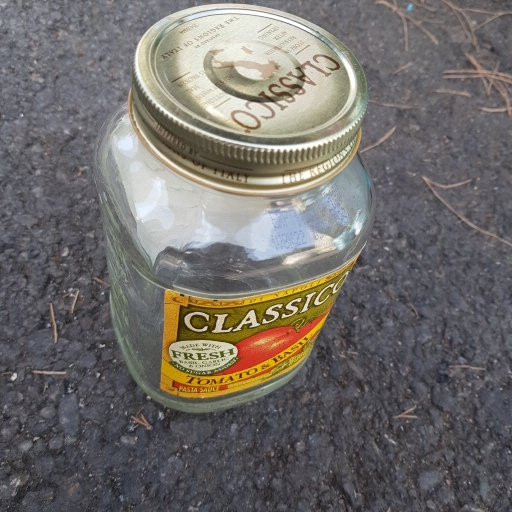Glass_5: (91, 7, 374, 409)
